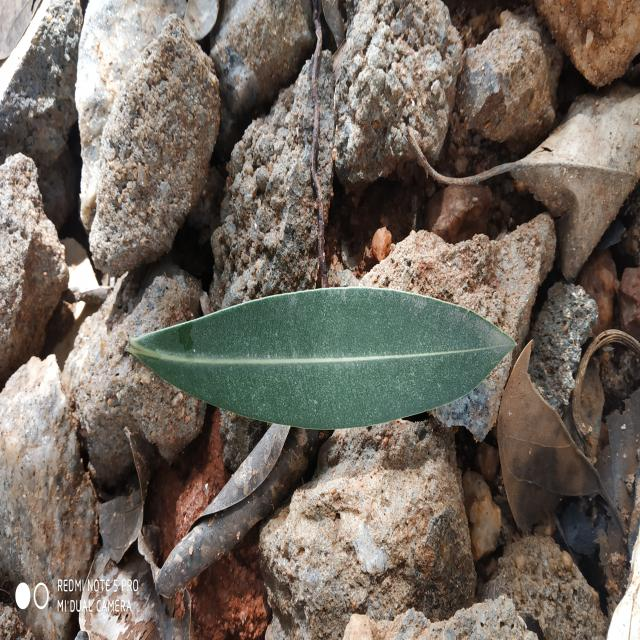ganigale: (129, 289, 512, 429)
